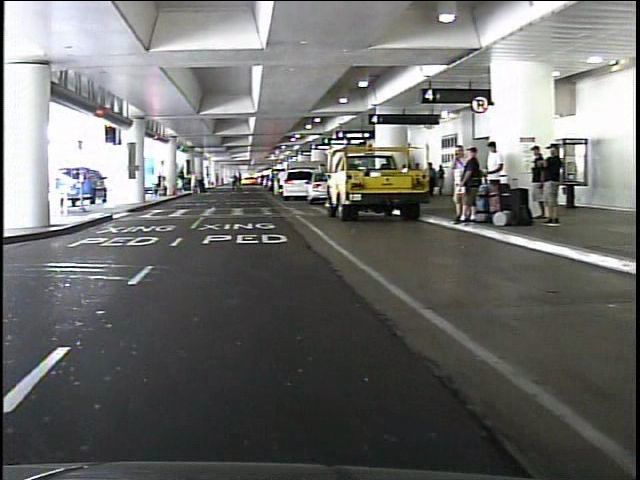person: (536, 144, 558, 230), (441, 143, 461, 220), (181, 166, 197, 200), (270, 165, 285, 186)
